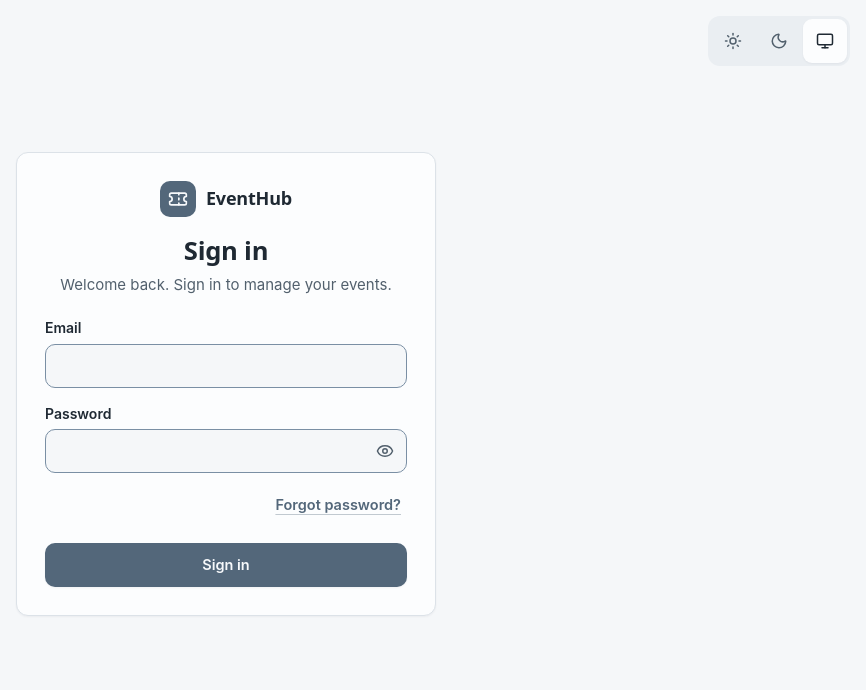
Scenario: LoginPage › on invalid_credentials keeps the email, clears and focuses the password, and shows the Alert
This screenshot has width=866, height=690.
In the field labelled "Email": (226, 366) [45, 344, 407, 388], type "sara@example.test"
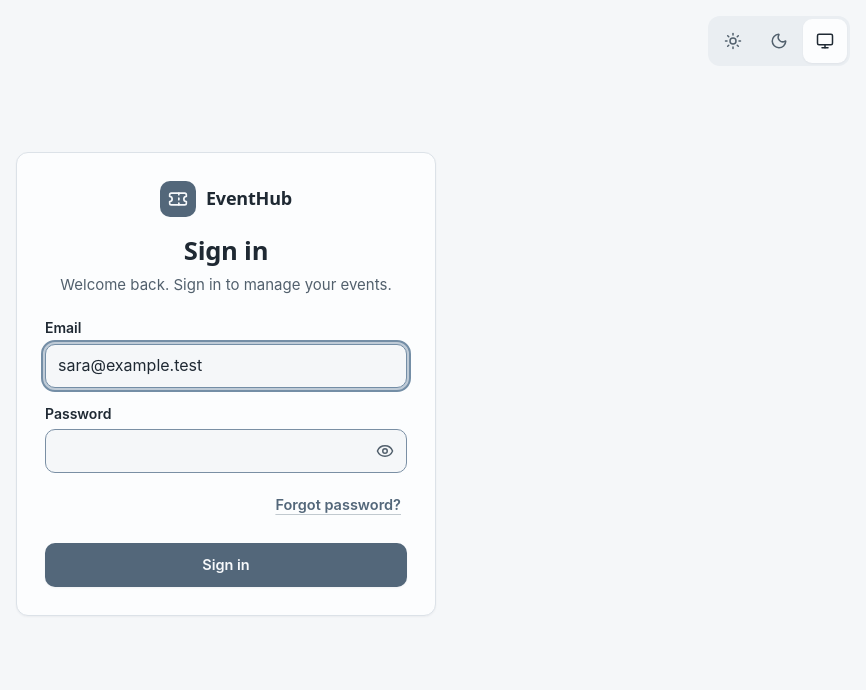
In the password field labelled "Password": (226, 451) [45, 429, 407, 473], type "wrong"
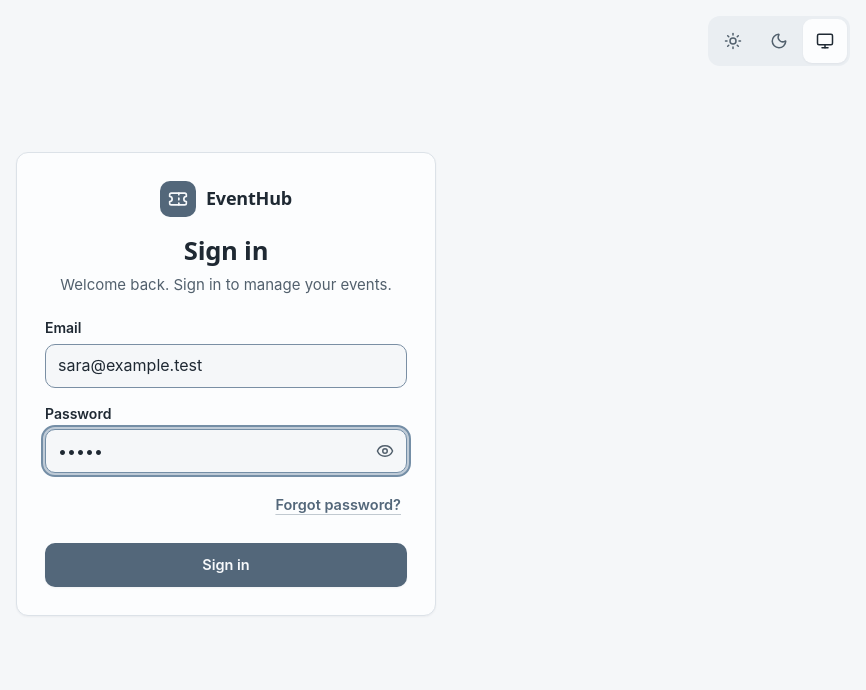
Click the button "Sign in": (226, 565) [45, 543, 407, 587]
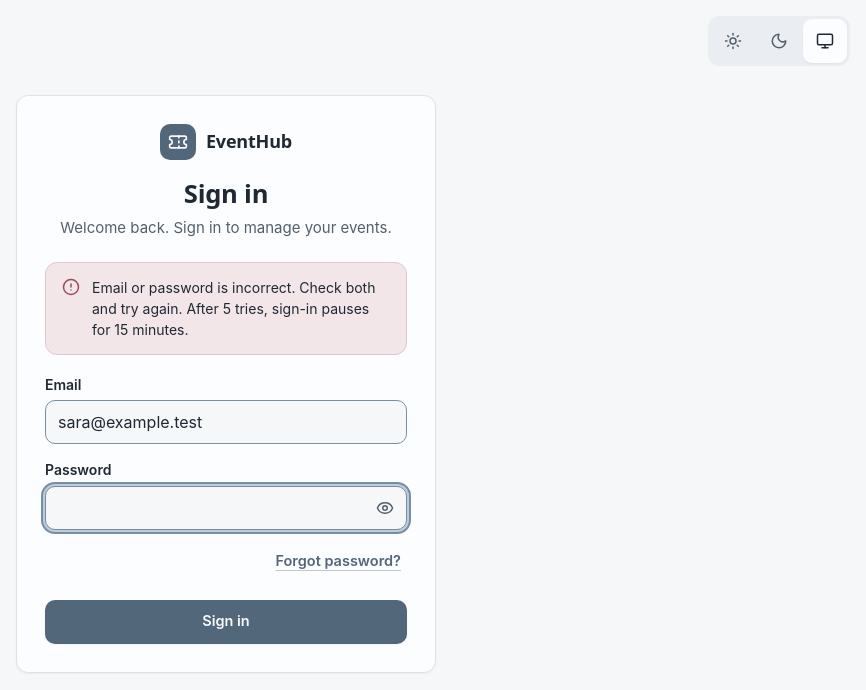
Expected: the message shows "Email or password is incorrect. Check both and try again. After 5 tries, sign-in pauses for 15 minutes.", [92, 278, 376, 338]
Expected: the password field labelled "Password" is empty, [45, 486, 407, 530]
